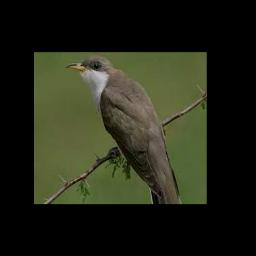Cuckoo: (66, 56, 182, 204)
